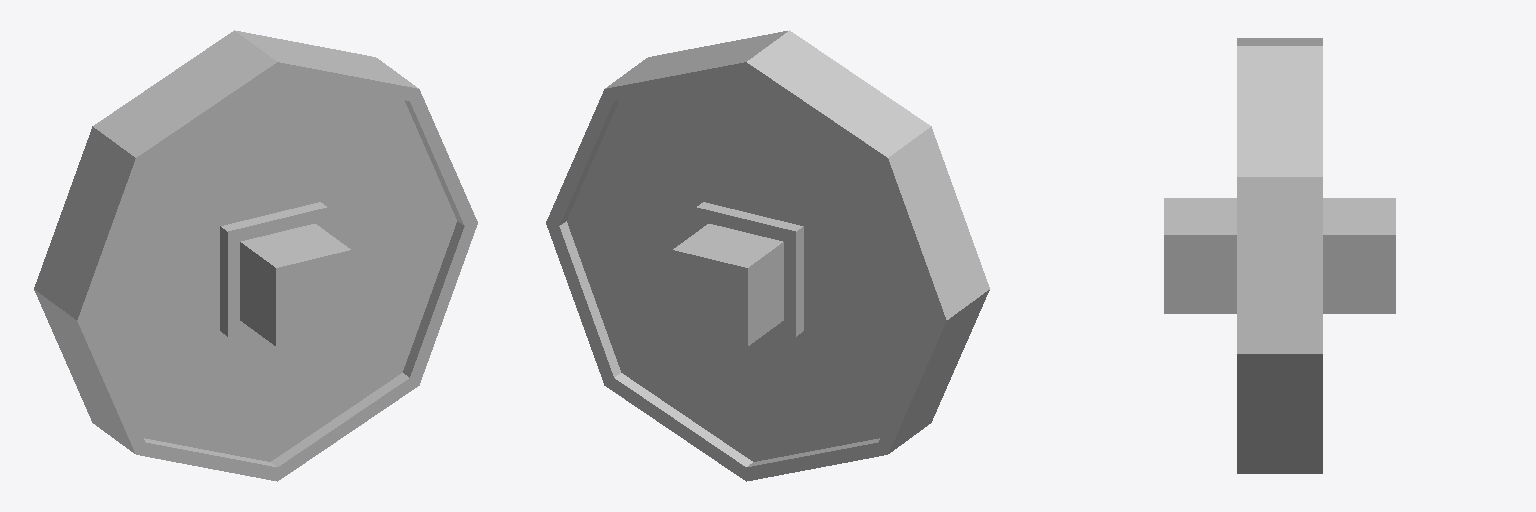
File: flywheel.obj
3 views of the same model, side by side, from view 1: azimuth 30°, elevation 25°; view 2: azimuth 150°, elevation 25°; view 3: azimuth 270°, elevation 25° (orthographic).
Parts seen in each view (by area): view 1: Circle; view 2: Circle; view 3: Circle.
Part boxes in pixels (left/top/right/bottom): Circle: left=34, top=30, right=477, bottom=481; Circle: left=546, top=30, right=989, bottom=481; Circle: left=1164, top=38, right=1395, bottom=473.
Size of the model in its own units: 2 by 2 by 1.